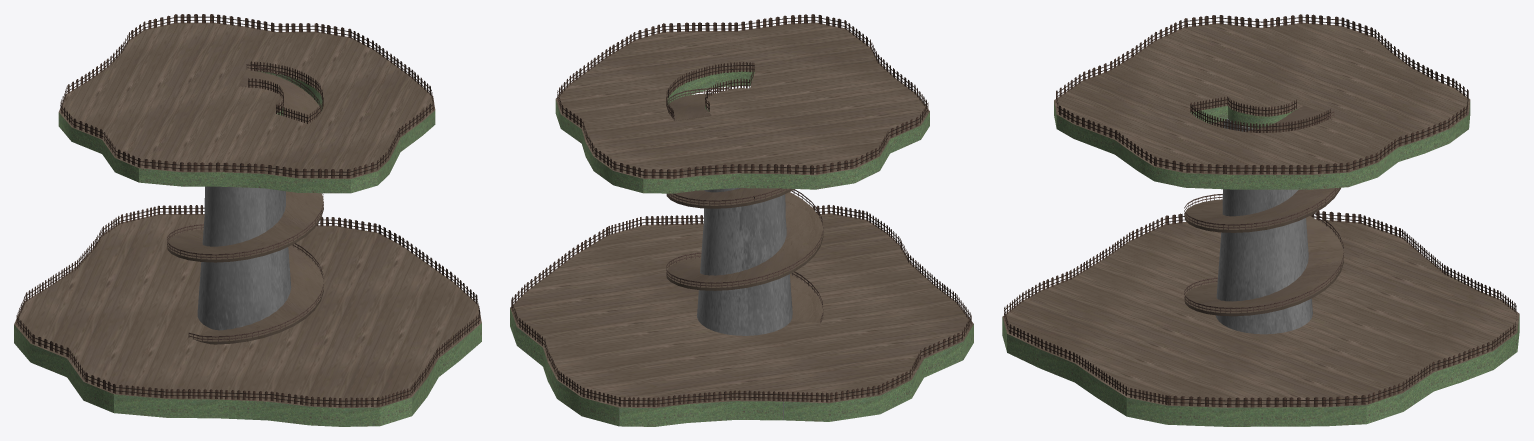
3 renders of one model, left to right at view 1: azimuth 30°, elevation 25°; view 2: azimuth 150°, elevation 25°; view 3: azimuth 270°, elevation 25°, orthographic.
Parts seen in each view (by area): view 1: lower_terrace, upper_terrace, shore, ramp, upper_fence, lower_fence, railing_ramp; view 2: lower_terrace, upper_terrace, shore, ramp, upper_fence, lower_fence, railing_ramp; view 3: lower_terrace, upper_terrace, shore, ramp, upper_fence, lower_fence, railing_ramp.
Boxes of the visible parts, box(x1,y1,x2,y2) form: lower_terrace: box(14, 214, 481, 426); upper_terrace: box(58, 22, 435, 193); shore: box(197, 115, 291, 330); ramp: box(167, 69, 323, 344); upper_fence: box(60, 14, 433, 178); lower_fence: box(16, 205, 480, 407); railing_ramp: box(167, 64, 323, 341); lower_terrace: box(510, 213, 973, 426); upper_terrace: box(555, 22, 929, 193); shore: box(697, 188, 792, 335); ramp: box(666, 93, 823, 322); upper_fence: box(557, 14, 928, 178); lower_fence: box(511, 205, 971, 406); railing_ramp: box(666, 88, 823, 322); lower_terrace: box(1002, 219, 1519, 426); upper_terrace: box(1054, 22, 1470, 189); shore: box(1216, 118, 1312, 334); ramp: box(1184, 106, 1343, 316); upper_fence: box(1056, 14, 1468, 174); lower_fence: box(1004, 211, 1516, 407); railing_ramp: box(1184, 111, 1343, 313).
Size of the model in its own units: 84.84 by 50.89 by 98.16.
3 materials, 3 textured.
